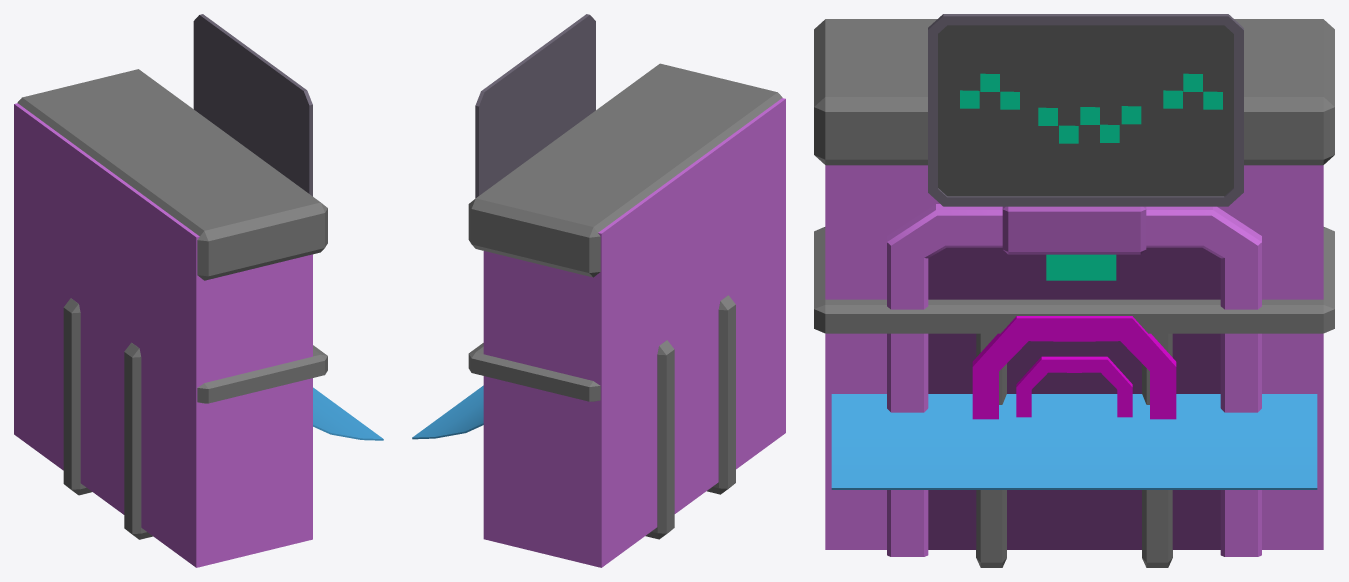
File: housr4.fbx
The picture shows the model from 3 angles, left to right: view 1: azimuth 30°, elevation 25°; view 2: azimuth 150°, elevation 25°; view 3: azimuth 270°, elevation 25°; orthographic projection. The views are drawn at different scales.
Visible parts, largest first — view 1: polySurface83; view 2: polySurface83; view 3: polySurface83.
Boxes of the visible parts, x1,y1,x2,y2 form: polySurface83: [14, 14, 383, 567]; polySurface83: [412, 14, 785, 567]; polySurface83: [814, 14, 1334, 567].
Size of the model in its own units: 0.1587 by 0.3246 by 0.2656.
